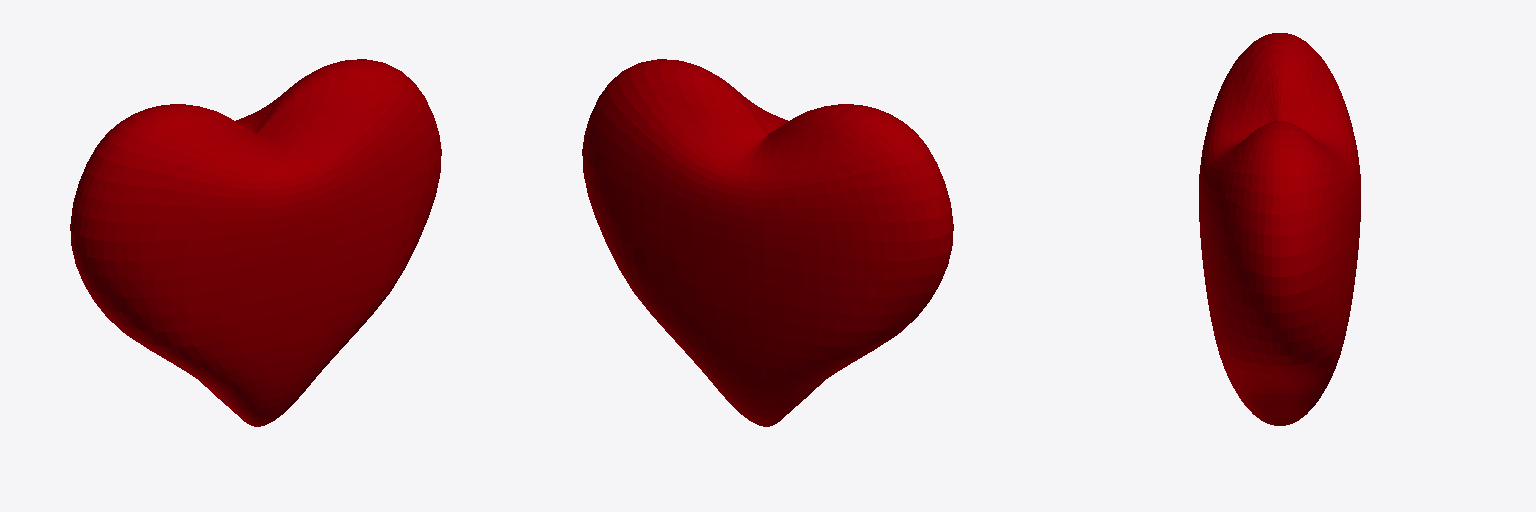
Rendered from heart.obj.
3 renders of one model, left to right at view 1: azimuth 30°, elevation 25°; view 2: azimuth 150°, elevation 25°; view 3: azimuth 270°, elevation 25°, orthographic.
Visible parts, largest first — view 1: Sphere_Sphere.001; view 2: Sphere_Sphere.001; view 3: Sphere_Sphere.001.
Boxes of the visible parts, <box> form: Sphere_Sphere.001: <box>70,59,441,426</box>; Sphere_Sphere.001: <box>582,59,953,426</box>; Sphere_Sphere.001: <box>1199,33,1360,425</box>.
Bounding box in the file's own units: 1.91 × 1.71 × 0.7432.